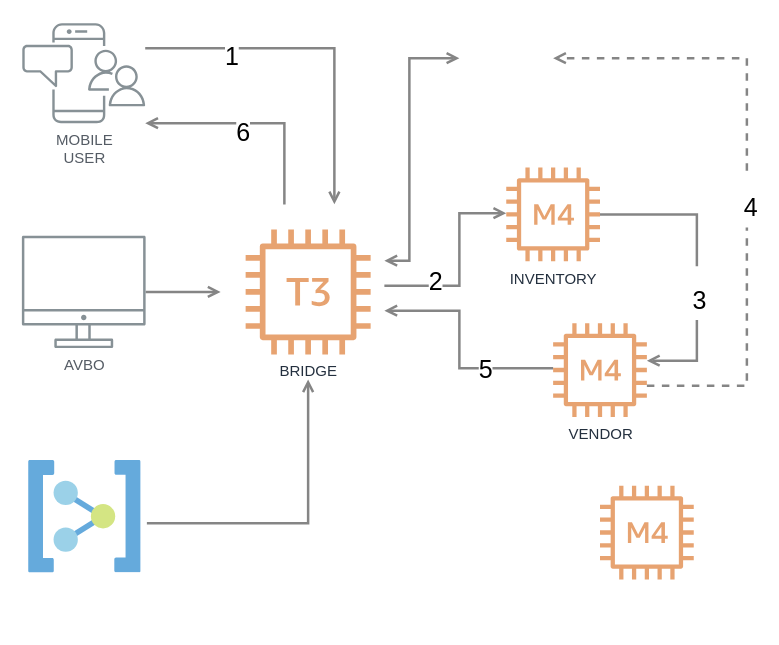
The diagram is 779 pixels wide and 645 high, and some of its shapes have lost their labels. Here are the shapes that lost their labels. From the top down, the centre of each, then its label:
pixel 83 516: INTEGRATION
pixel 646 532: PAYMENT GATEWAY
